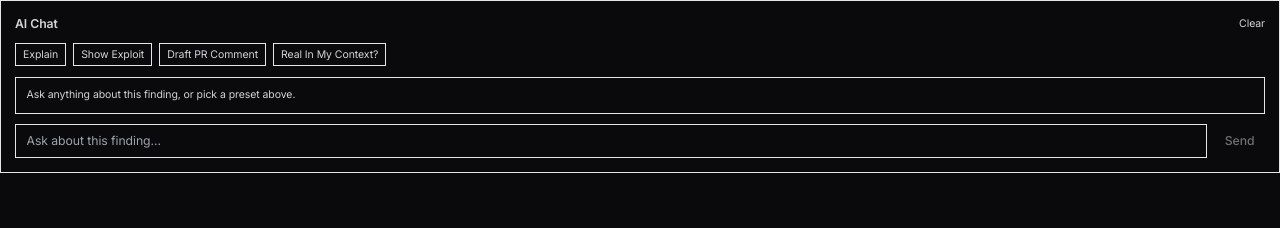
Scenario: ChatSidebar › renders error bubble on fetch failure
Type "boom" into the field named "chat message". click: (611, 141)
box: x1=15 y1=124 x2=1207 y2=158
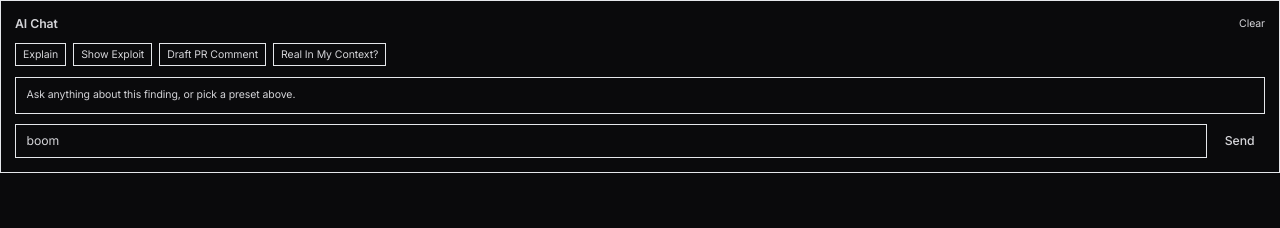
Click the button "Send". click: (1240, 141)
box: x1=1214 y1=124 x2=1265 y2=158
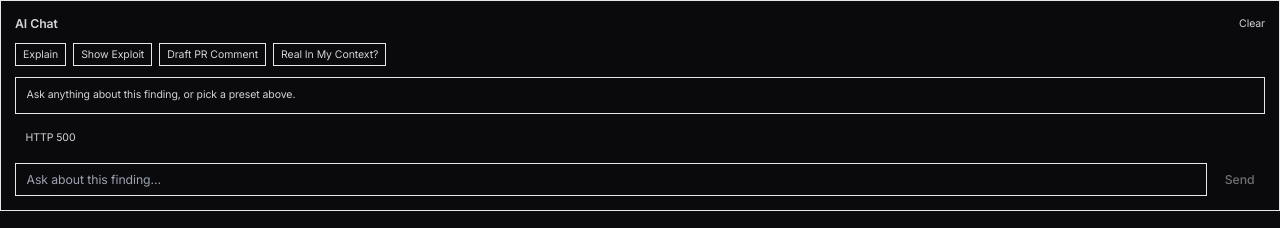
Expected: the message "HTTP 500" is shown, x1=26 y1=131 x2=75 y2=144
